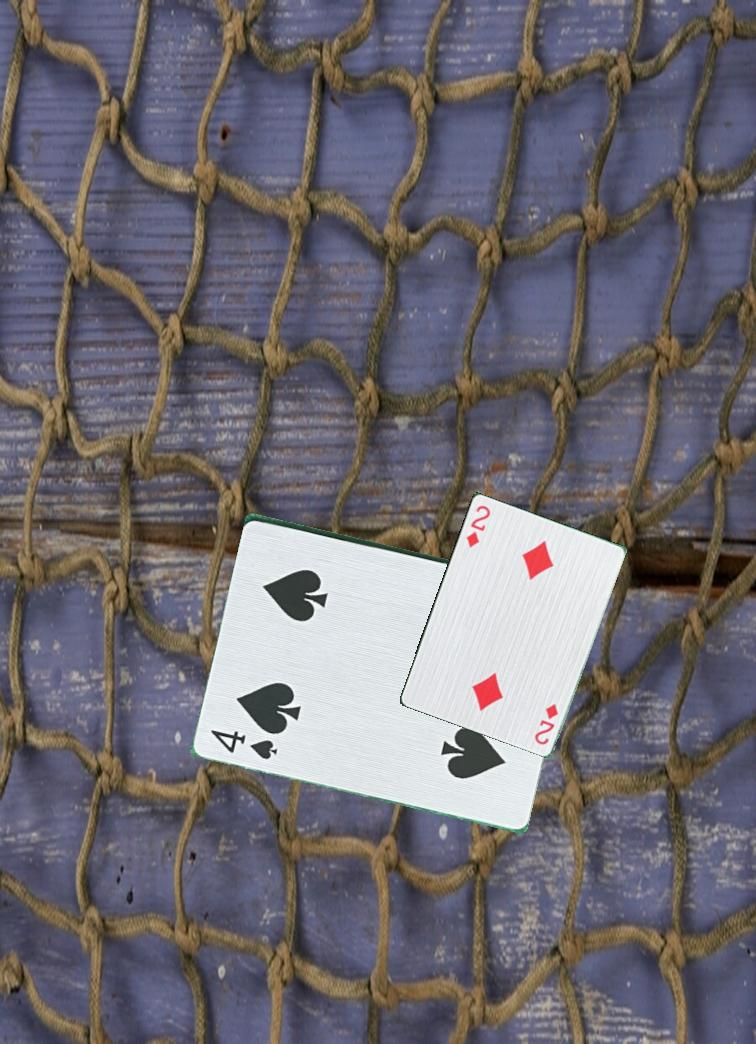2d: (528, 700, 561, 754), (463, 502, 494, 551)
4s: (208, 725, 289, 763)
